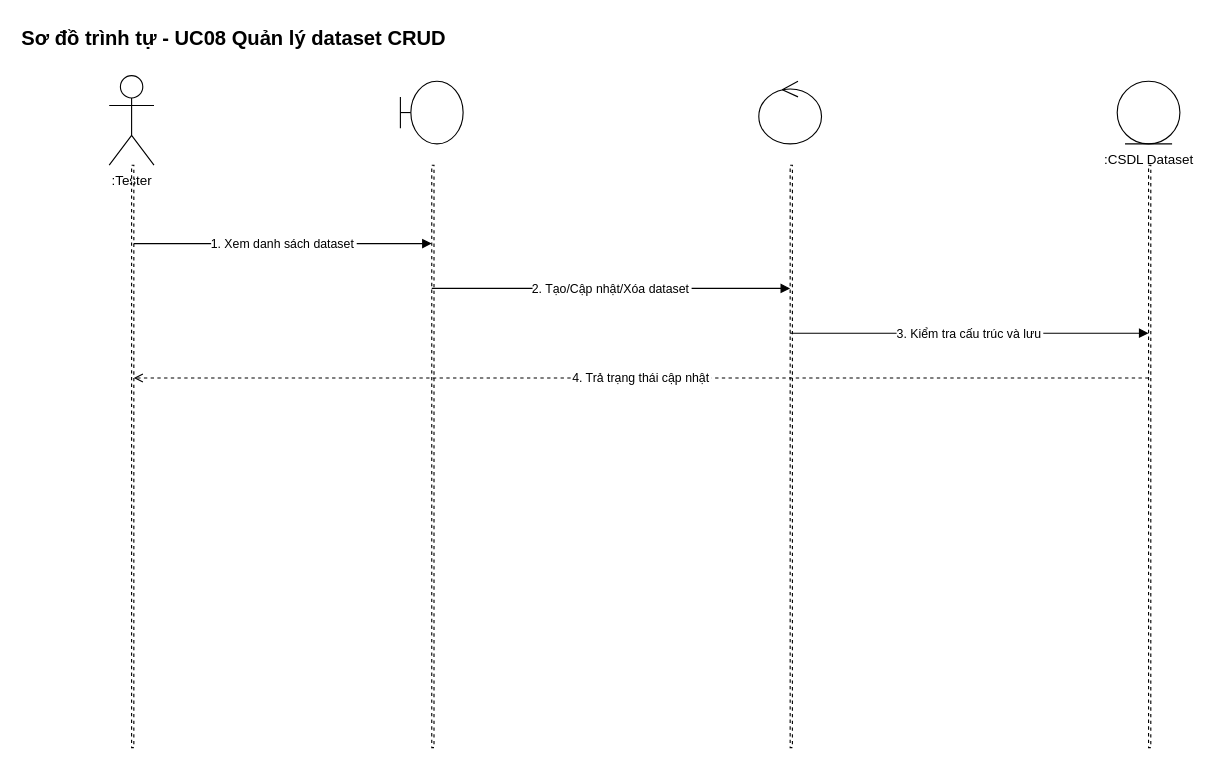
The diagram is 1212 pixels wide and 767 high, and some of its shapes have lost their labels. Here are the shapes that lost their labels. From the top down, the centre of each, then its label:
[431,112]: :Trang Bộ dữ liệu
[790,112]: :Dataset Service
